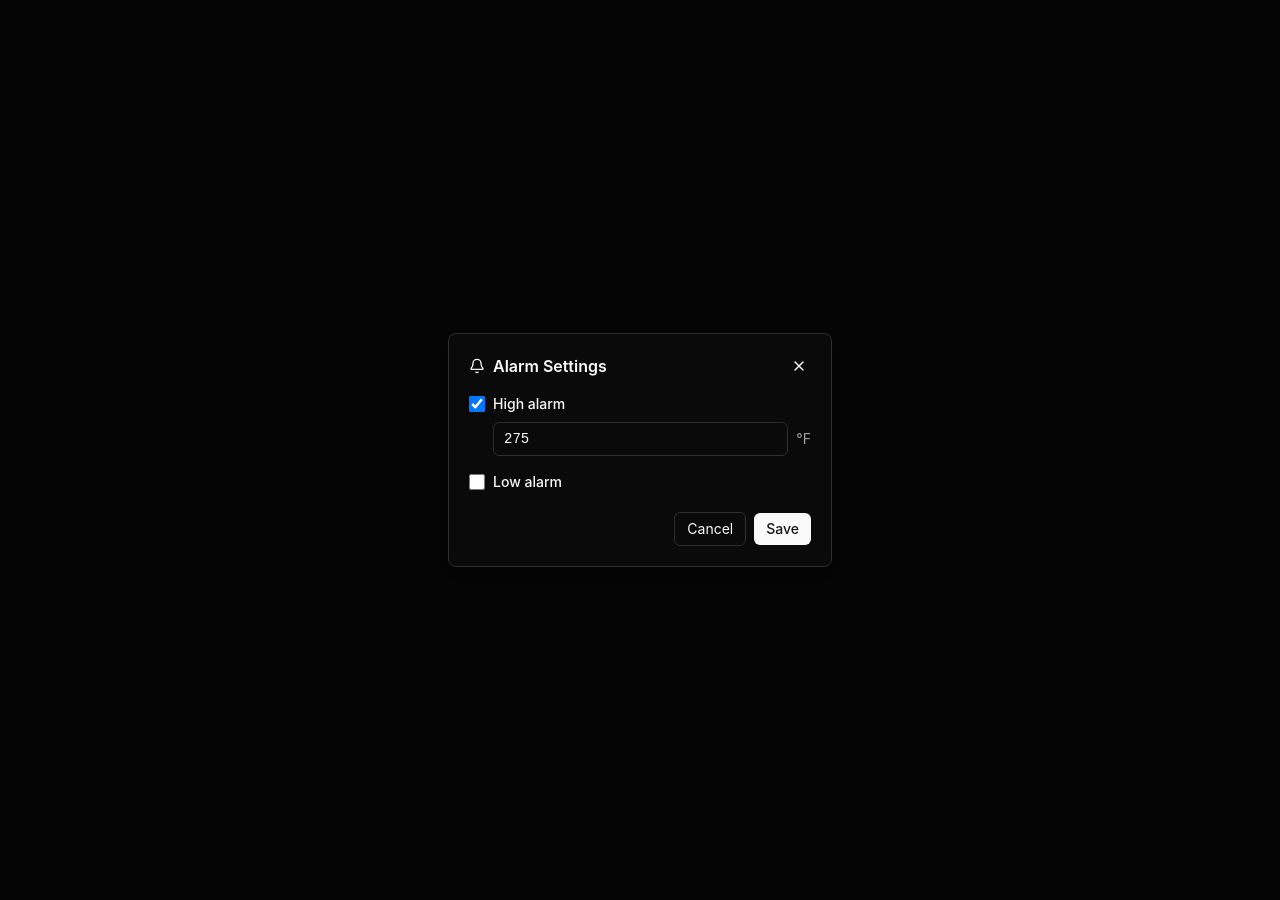
Test case: AlarmConfig › shows error message when setAlarm fails
The width and height of the screenshot is (1280, 900).
Click the button "Save" at (783,529), box left=754, top=513, right=811, bottom=545
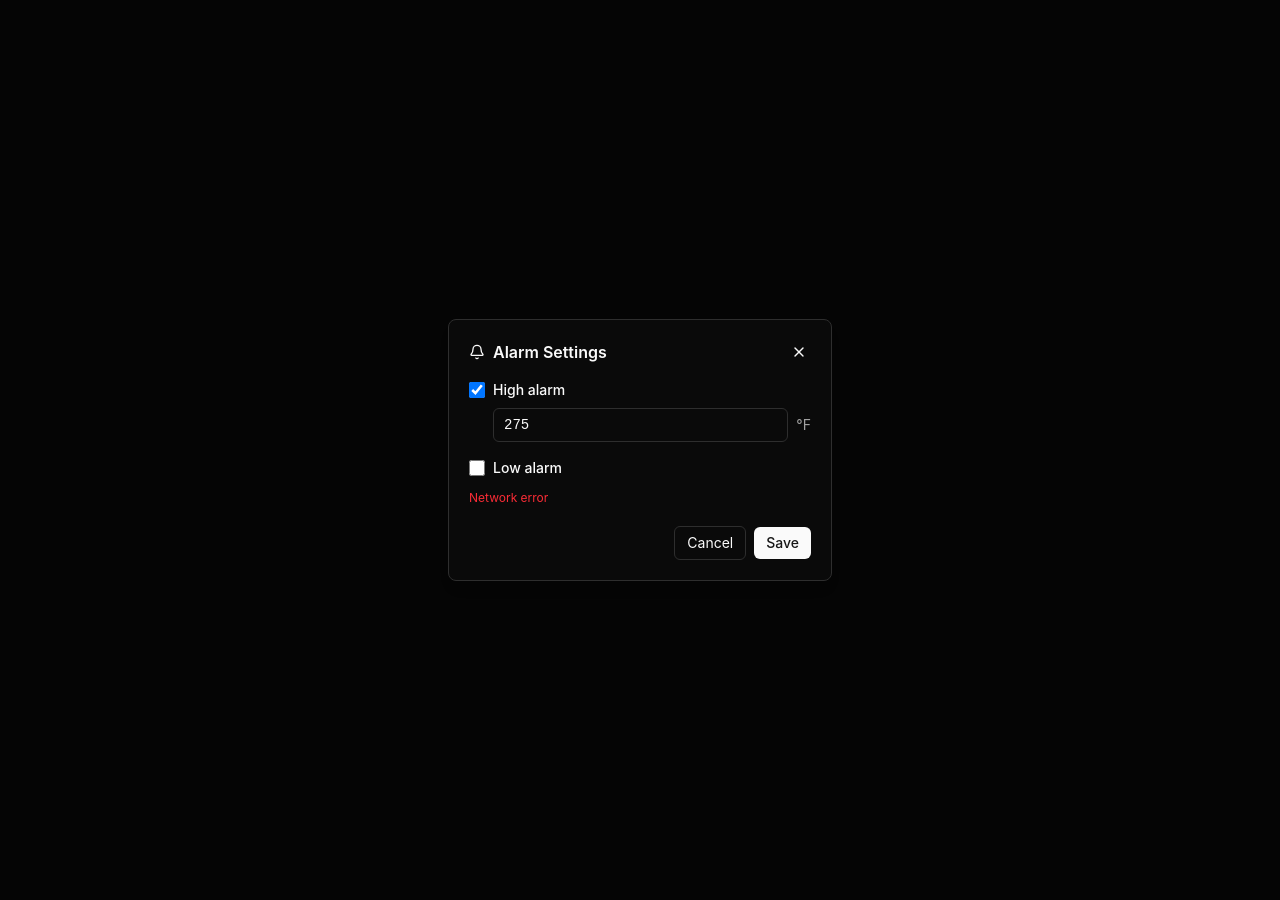
Expected: the message reads "Network error", left=469, top=490, right=548, bottom=505
